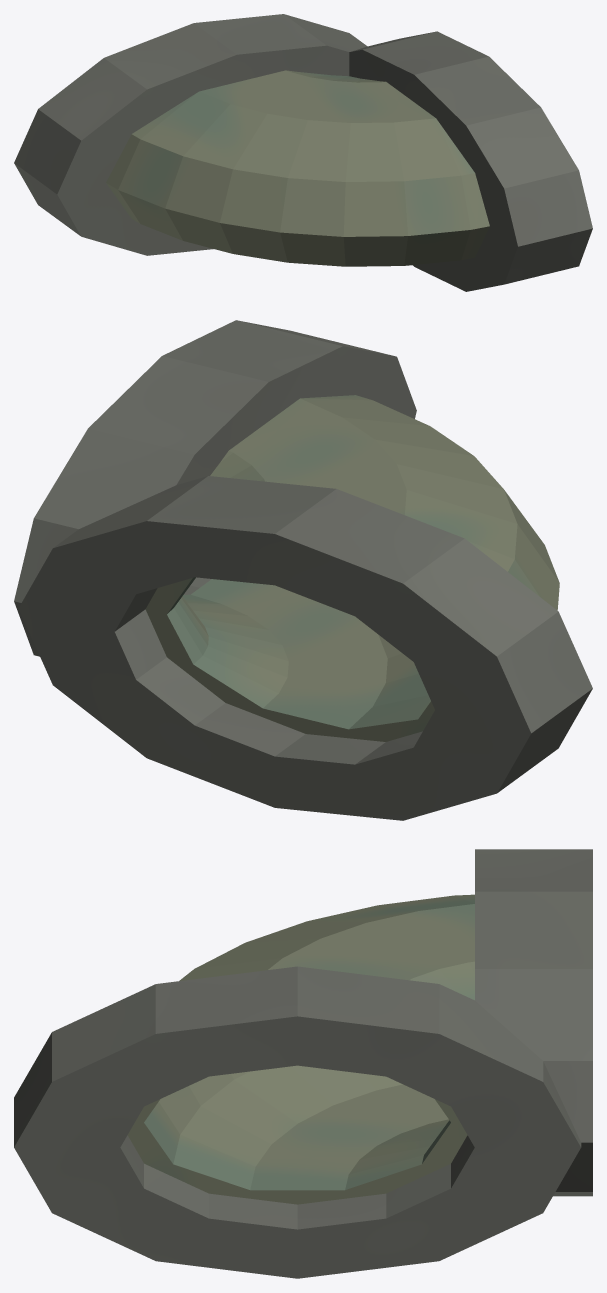
The model's file is WarrensC_PWC06_PipeElbow_Mars_SM.fbx.
The picture shows the model from 3 angles, top to bottom: view 1: azimuth 30°, elevation 25°; view 2: azimuth 150°, elevation 25°; view 3: azimuth 270°, elevation 25°; orthographic projection. The views are drawn at different scales.
Visible parts, largest first — view 1: WarrensC_PWC06_PipeElbow_Mars_SM.001; view 2: WarrensC_PWC06_PipeElbow_Mars_SM.001; view 3: WarrensC_PWC06_PipeElbow_Mars_SM.001.
Part boxes in pixels (box(x1,y1,x2,y2)): WarrensC_PWC06_PipeElbow_Mars_SM.001: box(14, 14, 592, 291); WarrensC_PWC06_PipeElbow_Mars_SM.001: box(14, 320, 592, 820); WarrensC_PWC06_PipeElbow_Mars_SM.001: box(14, 849, 592, 1278).
Size of the model in its own units: 80 by 80 by 40.
